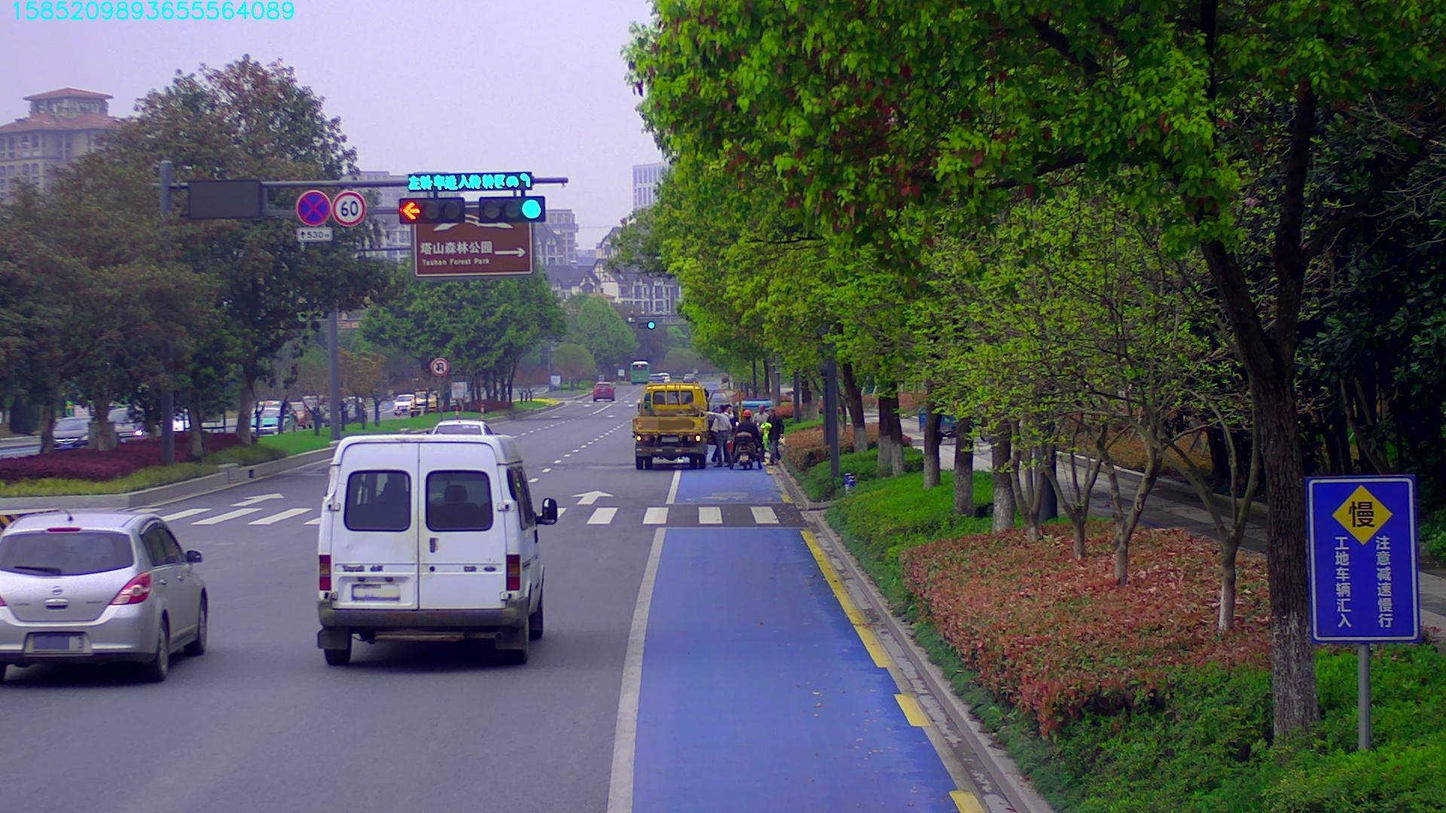green: (478, 195, 552, 221)
red: (401, 200, 461, 218)
wait_on: (401, 175, 535, 195)
